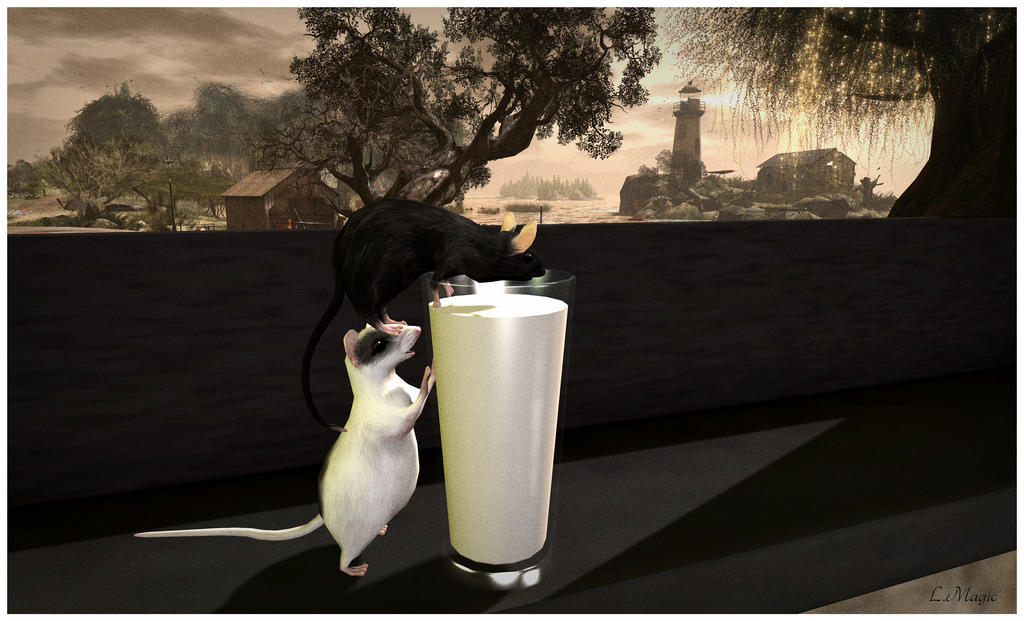glass of milk: (419, 274, 568, 589)
